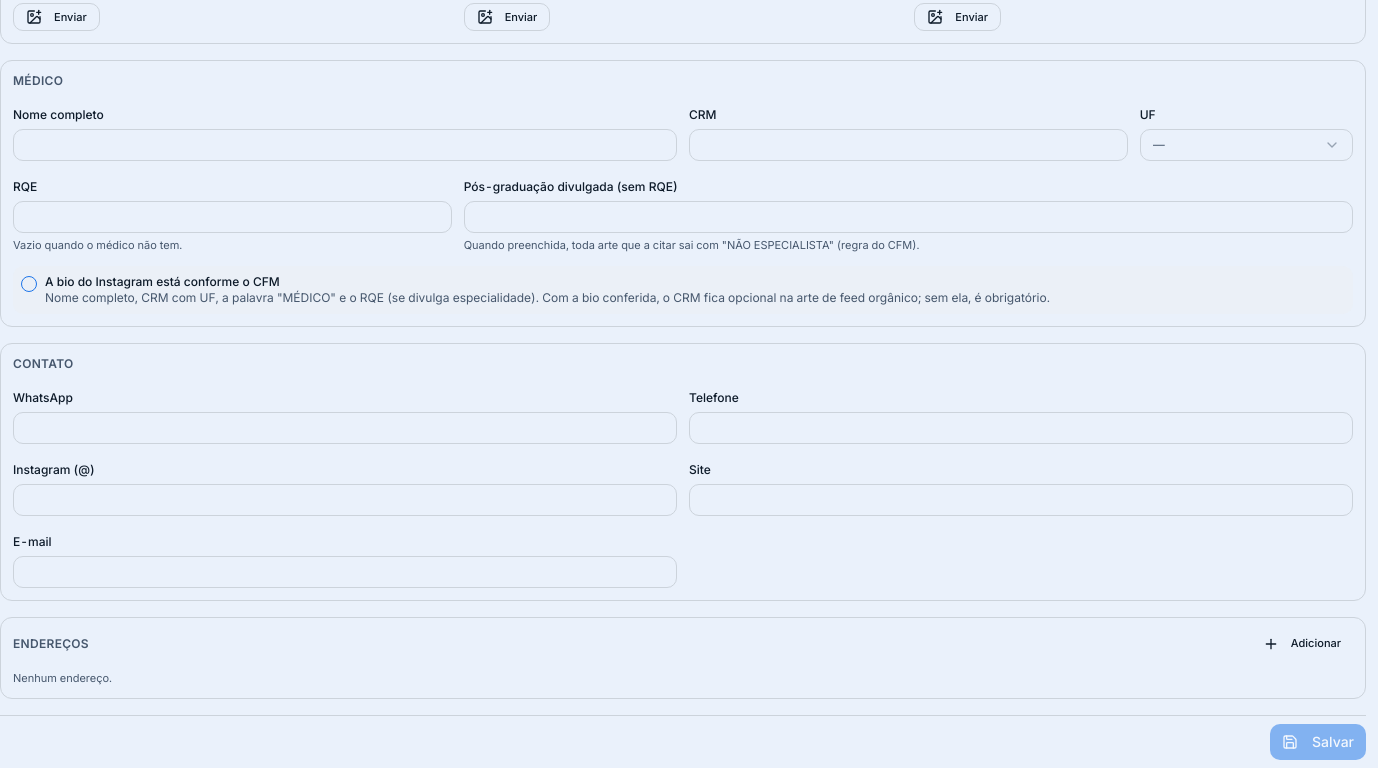
it: BrandKitTab › mostra ao lado do campo o que o worker recusou
(page scrolled)
Type "sem-arroba" into the field labelled "E-mail" at (345, 572), box [13,556,677,588]
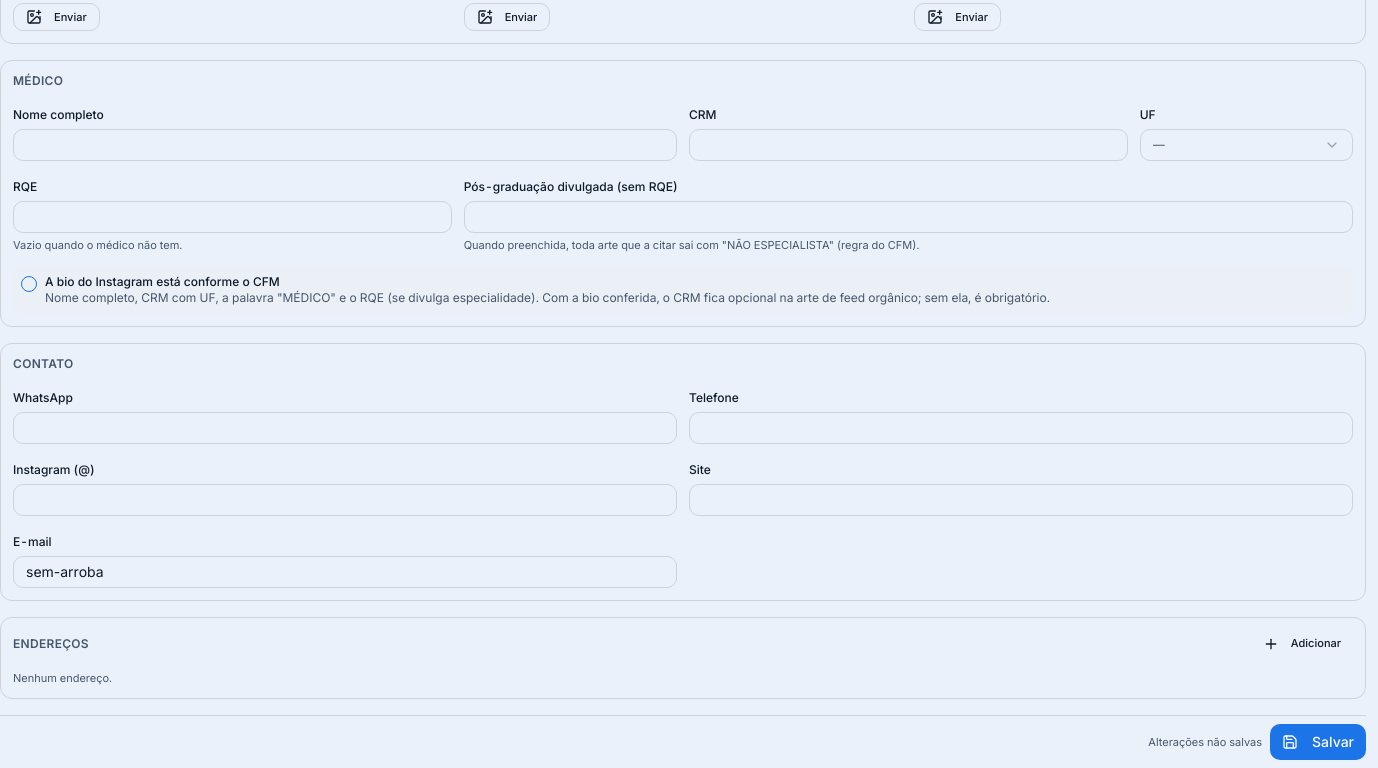
Click the button "Salvar" at (1318, 742), box [1270,724,1366,760]
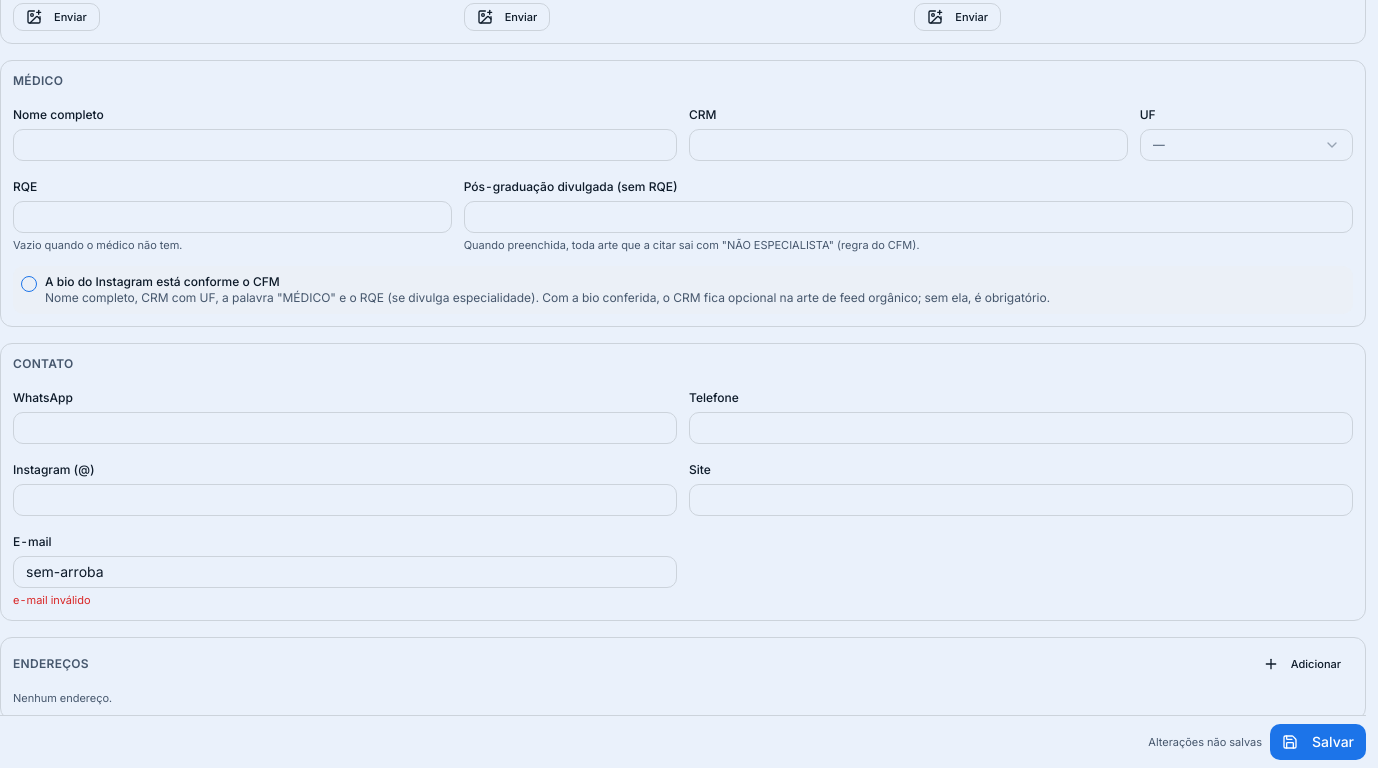
Check: the text "e-mail inválido" is shown, box [13,592,91,606]
